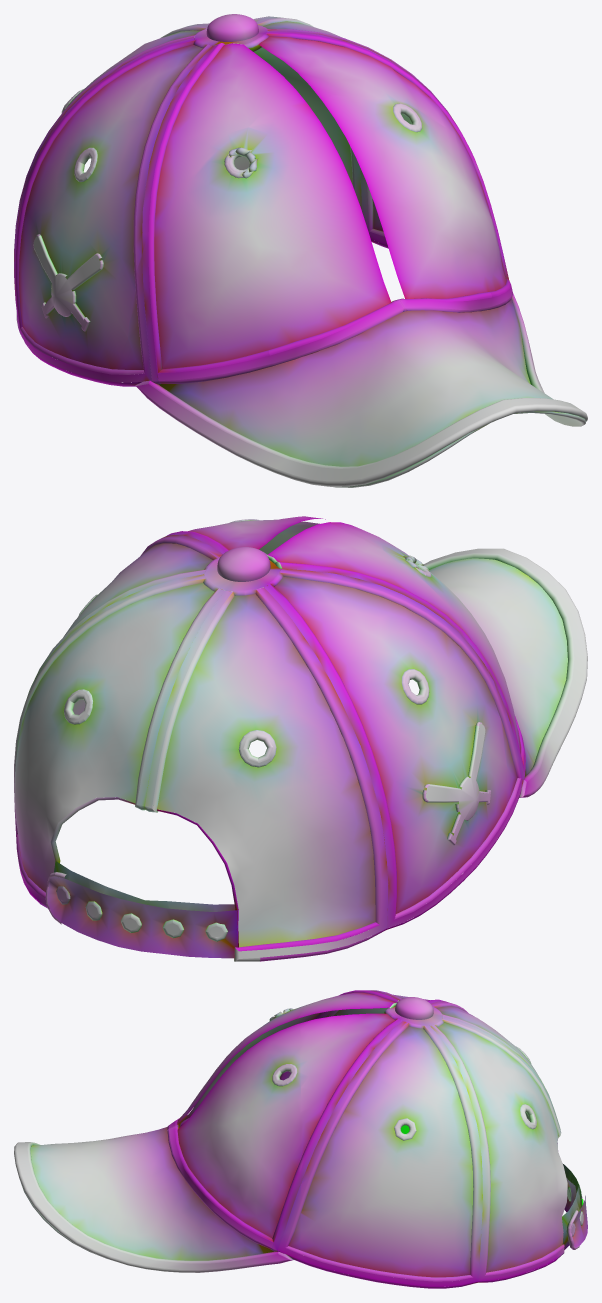
The model's file is cap.glb.
The picture shows the model from 3 angles, top to bottom: view 1: azimuth 30°, elevation 25°; view 2: azimuth 150°, elevation 25°; view 3: azimuth 270°, elevation 25°; orthographic projection. The views are drawn at different scales.
Parts seen in each view (by area): view 1: front, brim, back; view 2: back, brim, front; view 3: back, brim, front.
Boxes of the visible parts, x1,y1,x2,y2 form: front: [135, 36, 506, 385]; brim: [17, 228, 587, 487]; back: [14, 14, 508, 382]; back: [14, 531, 525, 961]; brim: [16, 548, 587, 961]; front: [188, 516, 526, 797]; back: [272, 990, 583, 1286]; brim: [14, 1115, 587, 1288]; front: [167, 992, 395, 1259].
Size of the model in its own units: 0.1771 by 0.13 by 0.2932.
